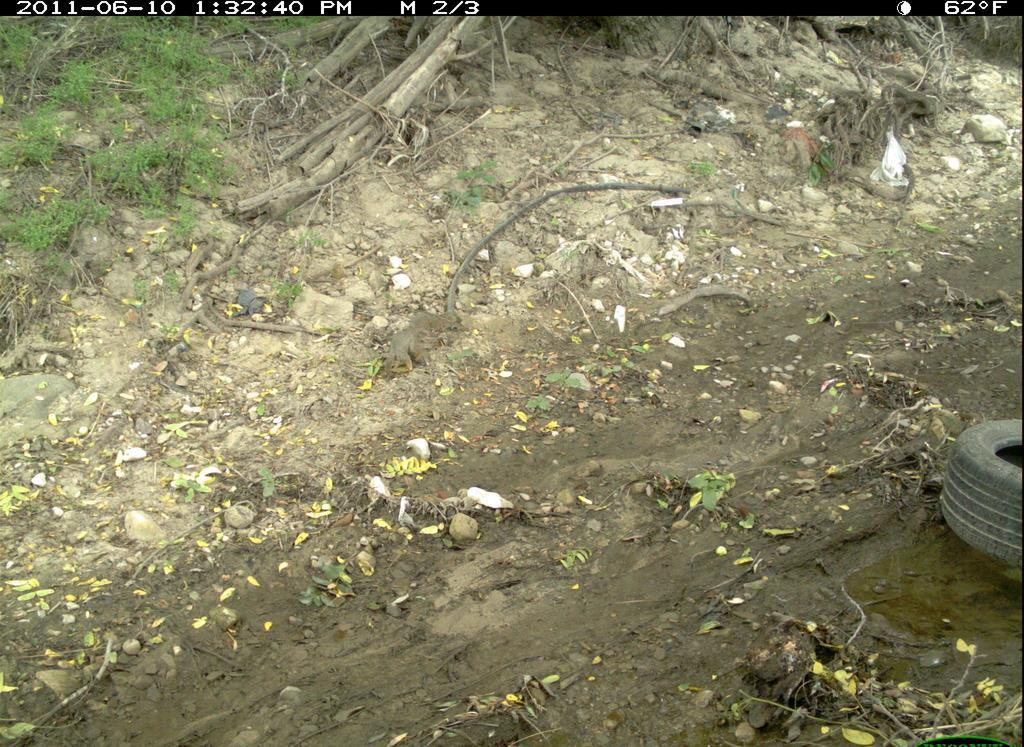squirrel: (374, 309, 474, 386)
